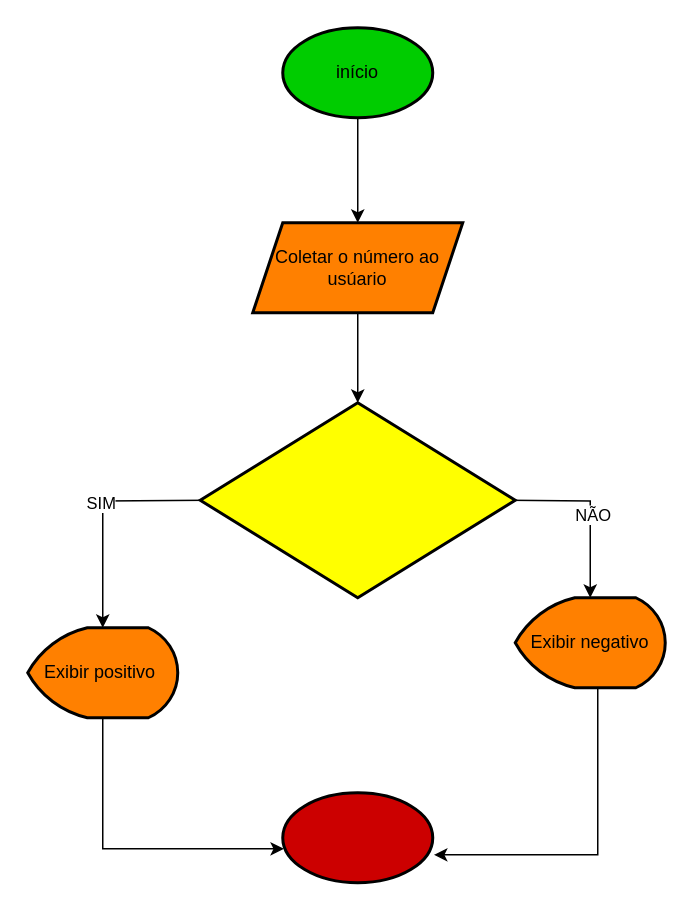
Some shapes in this 692 by 909 pixel diagram are drawn without their labels. The centre of each missing label's shape, as x and y in pixels:
FIM: pixel 357 837
Verificar se o número é maior que zero: pixel 357 499
